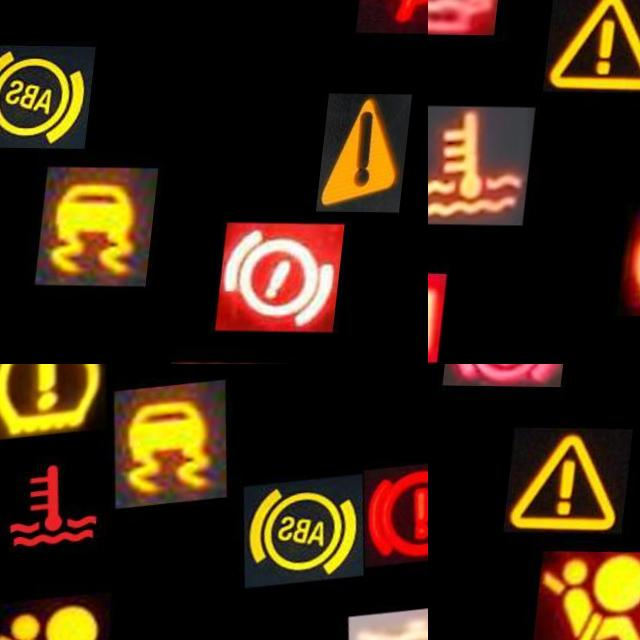Central Warning lamp: (511, 426, 638, 532), (325, 92, 419, 211), (551, 0, 640, 92)
Engine cooling system: (0, 436, 130, 570), (428, 105, 544, 224)
